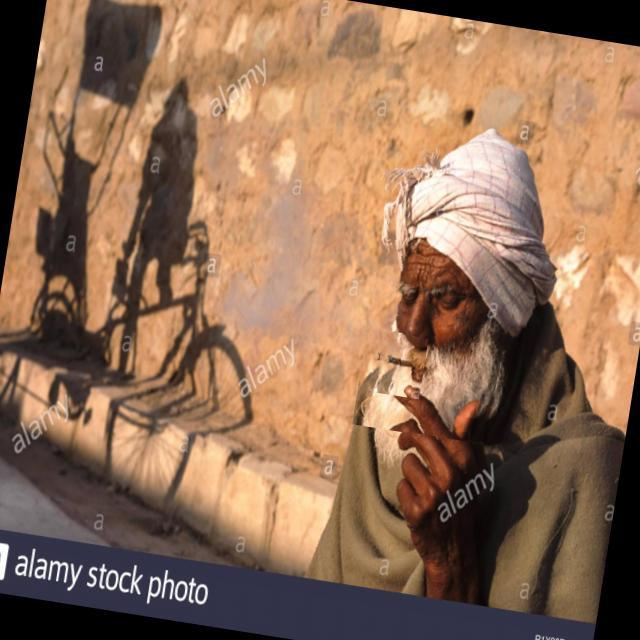cigarette: (372, 329, 428, 399)
